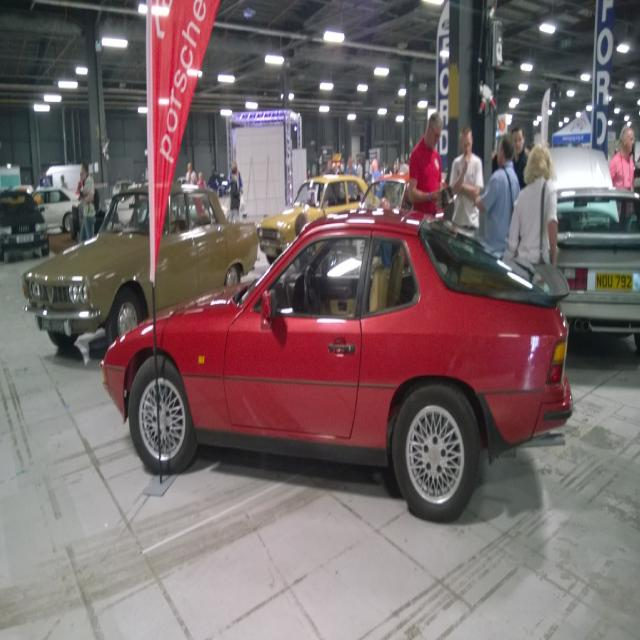car: (81, 187, 584, 508), (15, 179, 257, 363), (551, 188, 639, 361), (258, 170, 374, 260), (0, 184, 48, 257), (29, 180, 84, 232)
